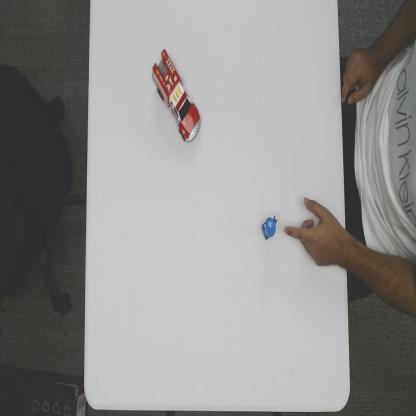Firetruck: (151, 45, 202, 146)
Hand: (283, 196, 344, 268)
